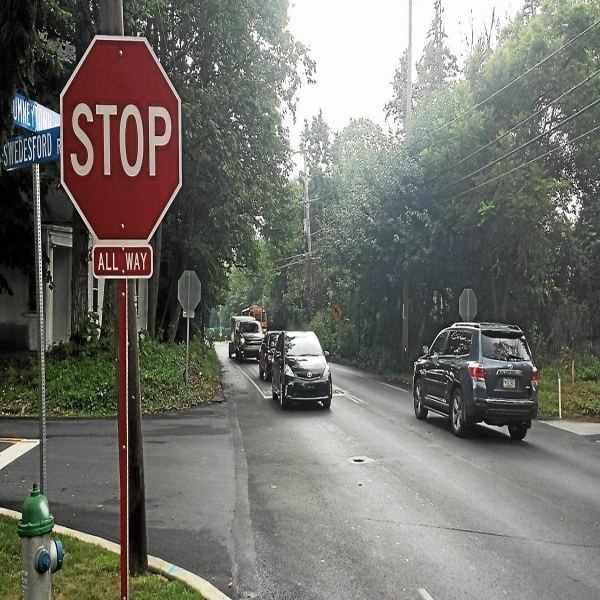stop: (64, 37, 186, 243)
